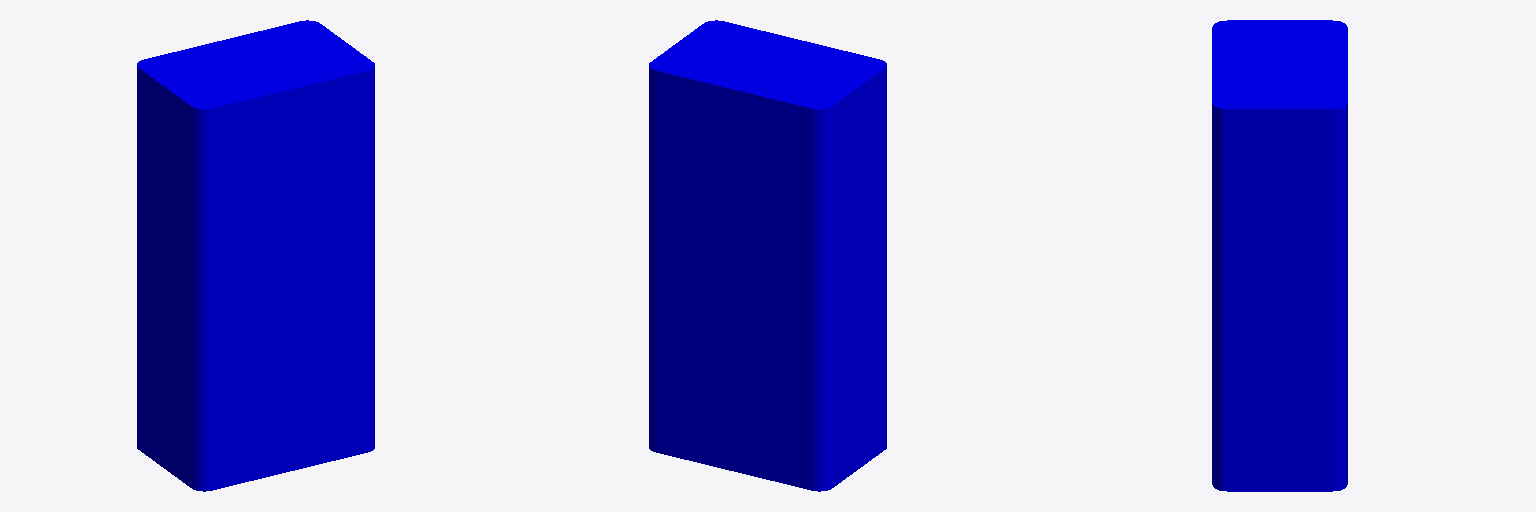
URDF robot description (board1_block5):
<?xml version="1.0"?>
<robot name="board1_block5">
    <link name="board1_block5">
        <visual>
            <origin xyz="0 0 0 " rpy=" 0 0 0"/>
            <geometry>
                <mesh filename="../meshes/SIMO_Board1_Block5.stl" scale="0.001 0.001 0.001"/>
            </geometry>
            <material name="red">
                <color rgba="0.0 0.0 1.0 1.0"/>
            </material>
        </visual>
        <collision>
            <origin xyz="0 0 0" rpy="0 0 0"/>
            <geometry>
                <mesh filename="../meshes/SIMO_Board1_Block5.stl" scale="0.001 0.001 0.001"/>
            </geometry>
        </collision>
    </link>
</robot>

--- Facts derived from the render (not from the file) ---
Views: 3 orthographic renders of the robot side by side, from view 1: azimuth 30°, elevation 25°; view 2: azimuth 150°, elevation 25°; view 3: azimuth 270°, elevation 25°.
Robot: board1_block5 — 1 links, 0 joints (none); root link board1_block5; default pose: all joints at 0.
Links seen in each view (by area): view 1: board1_block5; view 2: board1_block5; view 3: board1_block5.
Link boxes in pixels (x1,y1,x2,y2): board1_block5: [137, 20, 374, 491]; board1_block5: [649, 20, 886, 491]; board1_block5: [1212, 20, 1347, 491].
Bounding box of the posed robot: 0.0498 × 0.032 × 0.1 m (x, y, z).
1 mesh visuals loaded from 1 distinct referenced files (1 ASCII STL).
